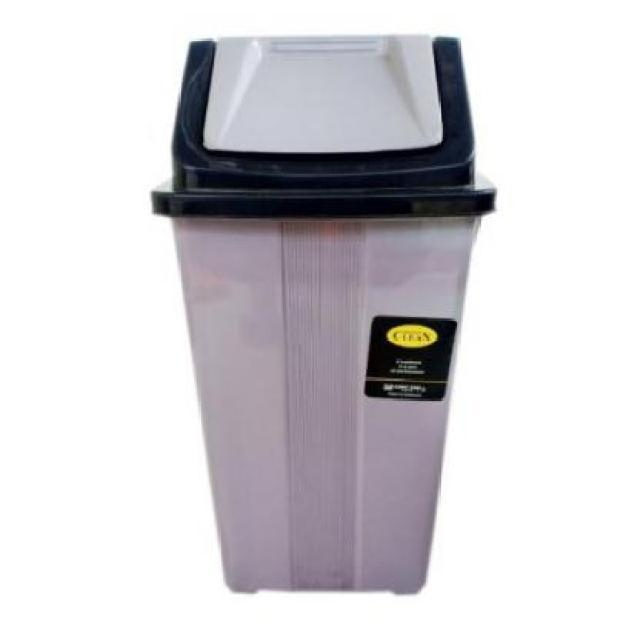garbage container: (141, 22, 504, 630)
